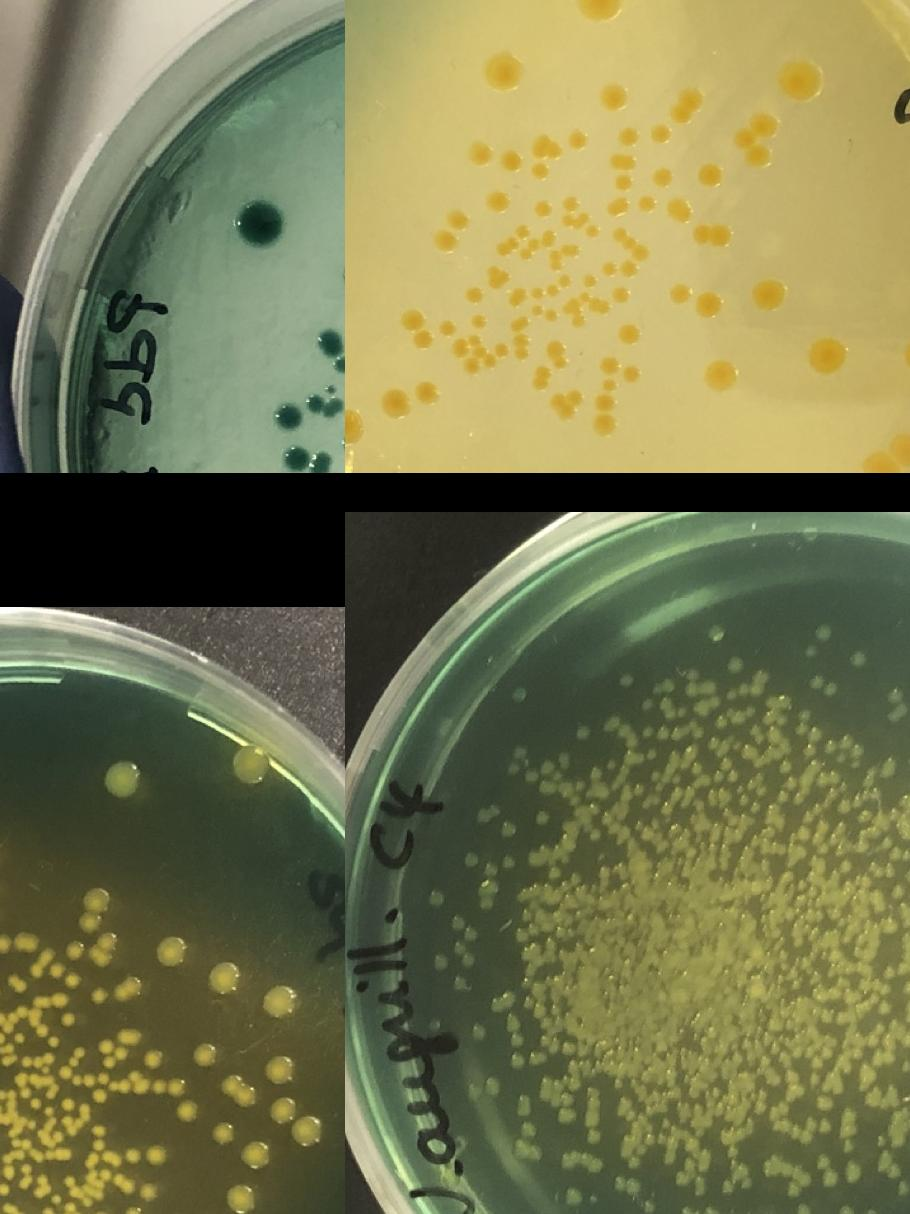pddamselae: (238, 204, 280, 244), (284, 448, 306, 471), (318, 329, 340, 351), (278, 406, 300, 428), (309, 454, 331, 473), (320, 398, 342, 414), (334, 356, 345, 372), (324, 382, 336, 394)
vangil: (684, 665, 722, 714), (822, 732, 866, 770), (450, 914, 478, 968), (723, 669, 769, 701), (793, 706, 824, 742), (789, 1116, 830, 1143), (761, 694, 792, 725), (802, 1044, 836, 1070), (808, 672, 840, 698), (784, 1070, 808, 1102), (712, 757, 740, 783), (622, 746, 658, 766), (887, 687, 908, 719), (514, 1140, 543, 1162), (490, 988, 516, 1012), (736, 792, 761, 815), (730, 738, 757, 759), (506, 1017, 524, 1048), (752, 768, 770, 797), (866, 1021, 886, 1047), (734, 702, 757, 724), (650, 676, 677, 694), (656, 725, 684, 741), (872, 864, 898, 879), (663, 704, 688, 719), (556, 1106, 574, 1124), (844, 1164, 862, 1180), (708, 625, 726, 641), (624, 1178, 642, 1194), (584, 1128, 602, 1144), (534, 810, 552, 826), (428, 889, 446, 905), (889, 883, 906, 899), (712, 713, 729, 729), (575, 723, 592, 739), (546, 865, 563, 881), (508, 1052, 525, 1068), (499, 821, 516, 837), (726, 656, 744, 671), (510, 686, 528, 701), (850, 650, 866, 666), (822, 1170, 838, 1186), (814, 1153, 830, 1169), (804, 642, 820, 658), (786, 1181, 802, 1197), (520, 1122, 536, 1138), (484, 1077, 500, 1093), (432, 954, 448, 970), (877, 1000, 892, 1016), (618, 671, 633, 687), (586, 1157, 601, 1173), (528, 851, 544, 866), (516, 1094, 531, 1110), (478, 893, 493, 909), (471, 1024, 488, 1038), (816, 624, 830, 640), (802, 742, 816, 758), (560, 1042, 578, 1054), (514, 928, 529, 942), (501, 854, 516, 868), (896, 1181, 910, 1195), (888, 846, 902, 860), (883, 1050, 897, 1064), (882, 966, 896, 980), (874, 1133, 888, 1147), (842, 1108, 856, 1122), (841, 1140, 855, 1154), (840, 858, 854, 872), (816, 819, 830, 833), (816, 842, 830, 856), (808, 1072, 822, 1086), (802, 908, 816, 922), (794, 844, 808, 858), (792, 791, 806, 805), (784, 774, 798, 788), (780, 869, 794, 883), (780, 758, 794, 772), (776, 790, 790, 804), (740, 1176, 754, 1190), (727, 811, 741, 825), (719, 1180, 733, 1194), (690, 725, 704, 739), (663, 1151, 677, 1165), (648, 769, 662, 783), (641, 696, 655, 710), (638, 724, 652, 738), (632, 782, 646, 796), (617, 723, 631, 737), (588, 766, 602, 780), (588, 828, 602, 842), (566, 1190, 580, 1204), (526, 768, 540, 782), (514, 744, 528, 758), (464, 852, 478, 866), (796, 1203, 813, 1214), (838, 800, 852, 813), (798, 827, 812, 840), (768, 728, 782, 741), (690, 760, 704, 773), (640, 827, 654, 840), (542, 760, 556, 773), (542, 781, 556, 794), (888, 1166, 902, 1178), (816, 1096, 830, 1108), (706, 738, 720, 750), (604, 758, 618, 770), (886, 920, 899, 932), (822, 1009, 834, 1022), (574, 778, 587, 790), (899, 1058, 910, 1072), (839, 1205, 854, 1214), (902, 1034, 910, 1048), (903, 980, 910, 994), (862, 1209, 879, 1214)
vharveyi: (268, 1094, 320, 1145), (732, 112, 777, 168), (865, 433, 910, 473), (434, 208, 471, 254), (231, 744, 269, 784), (206, 957, 244, 997), (103, 760, 141, 800), (462, 333, 499, 374), (261, 980, 298, 1020), (78, 886, 109, 933), (402, 306, 434, 351), (782, 61, 818, 97), (596, 78, 631, 114), (486, 53, 521, 88), (668, 88, 702, 124), (220, 1074, 258, 1106), (808, 338, 843, 372), (703, 358, 738, 392), (378, 385, 412, 419), (614, 229, 650, 261), (561, 291, 610, 314), (755, 277, 788, 311), (550, 388, 583, 420), (0, 1005, 39, 1032), (692, 222, 732, 246), (156, 936, 188, 966), (264, 1054, 294, 1084), (594, 394, 616, 434), (242, 1139, 270, 1169), (228, 1184, 256, 1214), (550, 243, 581, 270), (64, 1104, 90, 1134), (114, 976, 142, 1002), (0, 932, 37, 951), (193, 1042, 217, 1068), (154, 1077, 185, 1097), (609, 150, 638, 170), (698, 162, 722, 186), (696, 291, 720, 315), (668, 281, 692, 305), (616, 322, 640, 346), (416, 380, 440, 404), (584, 0, 617, 17), (562, 210, 590, 230), (546, 340, 566, 368), (345, 408, 361, 443), (470, 141, 493, 165), (500, 150, 522, 174), (210, 1122, 234, 1144), (176, 1101, 200, 1123), (96, 930, 120, 952), (533, 138, 562, 156), (487, 266, 510, 288), (489, 190, 510, 214), (22, 1052, 56, 1066), (533, 364, 550, 390), (112, 1174, 135, 1192), (521, 237, 540, 258), (128, 1070, 146, 1092), (34, 1175, 52, 1197), (86, 1174, 103, 1197), (32, 994, 64, 1006), (608, 197, 628, 215), (498, 237, 518, 255), (14, 1116, 36, 1132), (92, 1125, 106, 1150), (69, 1046, 86, 1066), (0, 1088, 17, 1108), (46, 1147, 74, 1159), (668, 198, 686, 216), (637, 195, 655, 213), (623, 364, 641, 382), (620, 126, 638, 144), (620, 260, 638, 278), (614, 173, 632, 191), (612, 285, 630, 303), (601, 355, 619, 373), (562, 195, 580, 213), (534, 200, 552, 218), (450, 338, 468, 356), (438, 319, 456, 337), (8, 974, 26, 992), (71, 1074, 95, 1087), (654, 124, 671, 142), (654, 168, 671, 186), (581, 271, 598, 289), (568, 130, 585, 148), (530, 161, 548, 178), (512, 315, 529, 332), (68, 940, 84, 958), (60, 1201, 82, 1214), (0, 1032, 13, 1054), (471, 313, 488, 329), (465, 286, 482, 302), (119, 1027, 134, 1045), (44, 1106, 57, 1126), (150, 1146, 164, 1164), (146, 1050, 160, 1068), (516, 223, 530, 239), (512, 286, 526, 302), (85, 1152, 99, 1168), (46, 1083, 60, 1098), (142, 1184, 156, 1198), (558, 274, 572, 286), (530, 285, 544, 297), (114, 1047, 128, 1059), (96, 1072, 110, 1084), (92, 989, 106, 1001), (544, 309, 557, 321), (495, 344, 508, 356), (60, 1066, 73, 1078), (604, 377, 616, 389), (586, 224, 598, 236), (572, 314, 584, 326), (547, 283, 559, 295), (543, 230, 555, 242), (532, 304, 544, 316), (516, 347, 528, 359), (127, 1150, 139, 1162), (120, 1080, 132, 1092), (104, 1056, 116, 1068), (100, 1041, 112, 1053), (94, 1090, 106, 1102), (66, 973, 78, 985), (64, 1175, 76, 1187), (62, 1013, 74, 1025), (62, 1098, 74, 1110), (51, 964, 63, 976), (48, 1036, 60, 1048), (42, 948, 54, 960), (36, 1024, 48, 1036), (31, 964, 43, 976), (13, 1032, 25, 1044), (3, 1165, 15, 1177), (604, 262, 615, 274), (127, 1206, 142, 1214), (0, 1183, 9, 1195), (92, 1210, 109, 1214)
